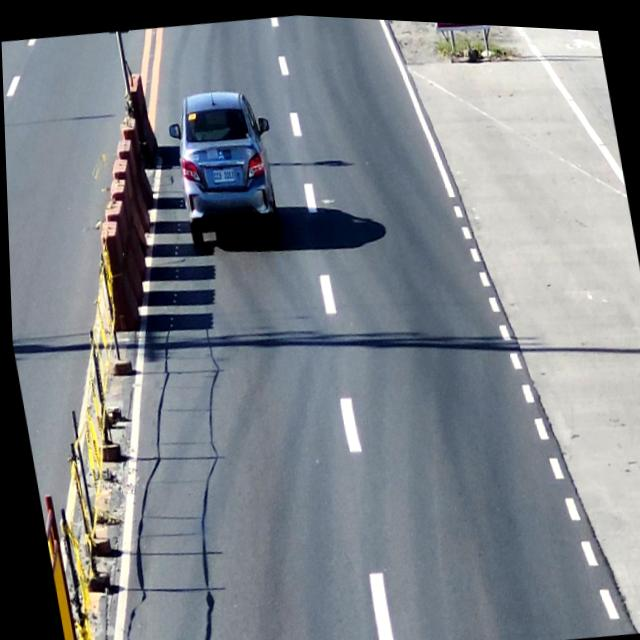Car: (166, 77, 290, 263)
License-Plate: (210, 163, 237, 185)
